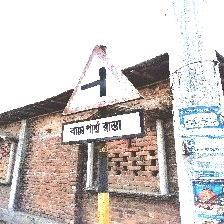Side-road-left: (61, 46, 143, 146)
